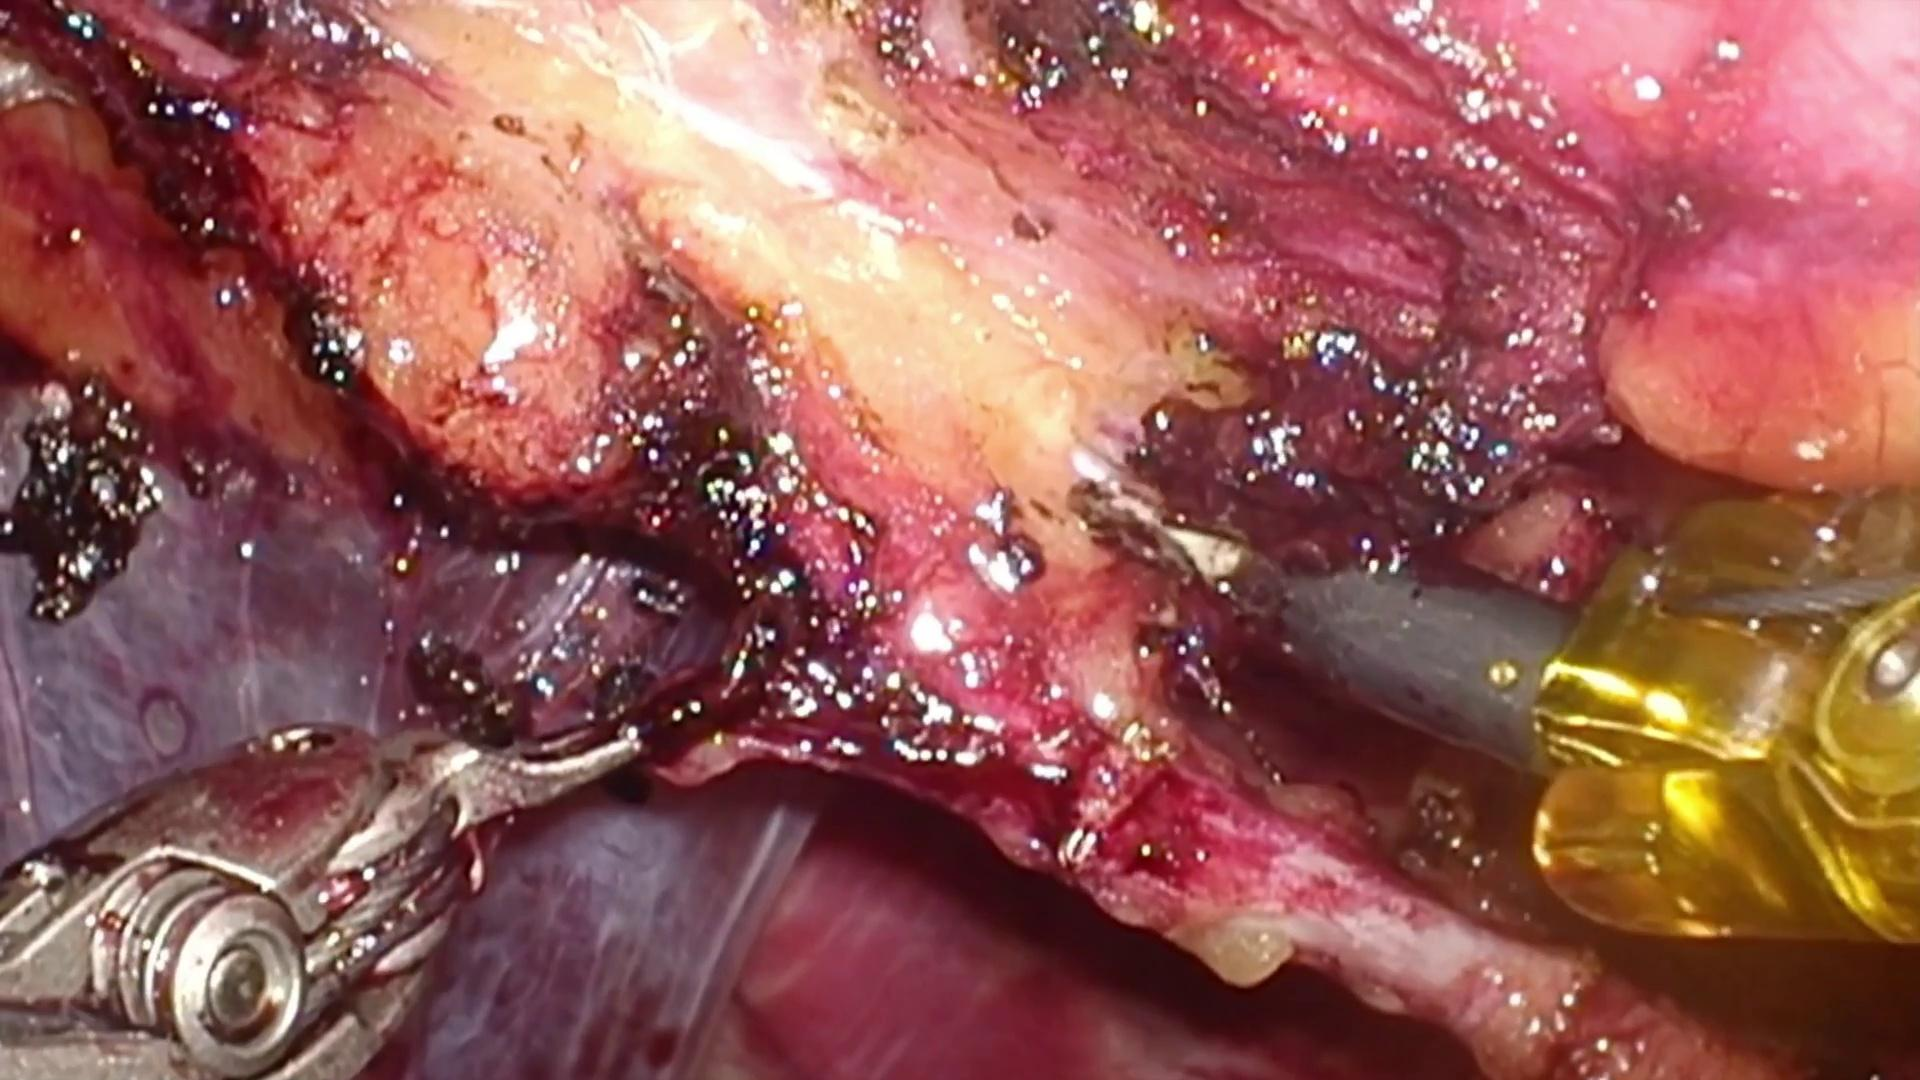Cautery_Spatula: (1122, 492, 1567, 787)
Debakey: (375, 626, 665, 841)
